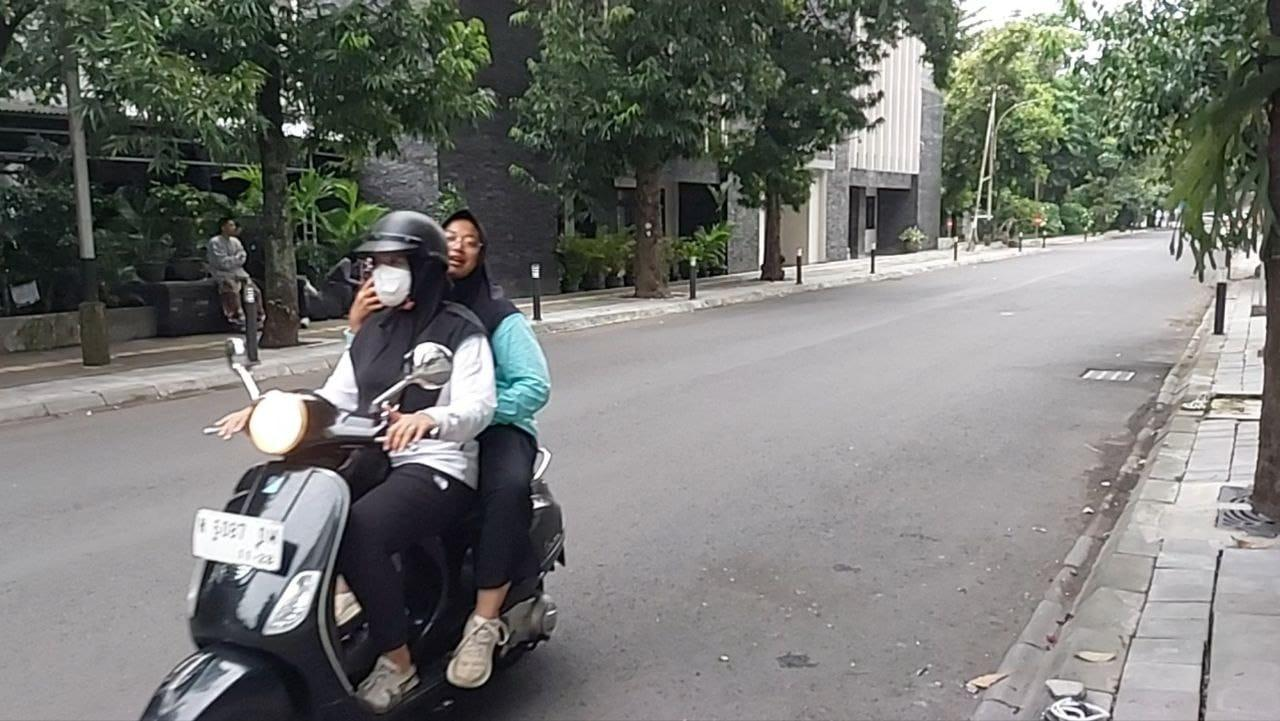helm: (353, 209, 450, 309)
nohelm: (440, 208, 489, 278)
riding: (136, 203, 573, 721)
